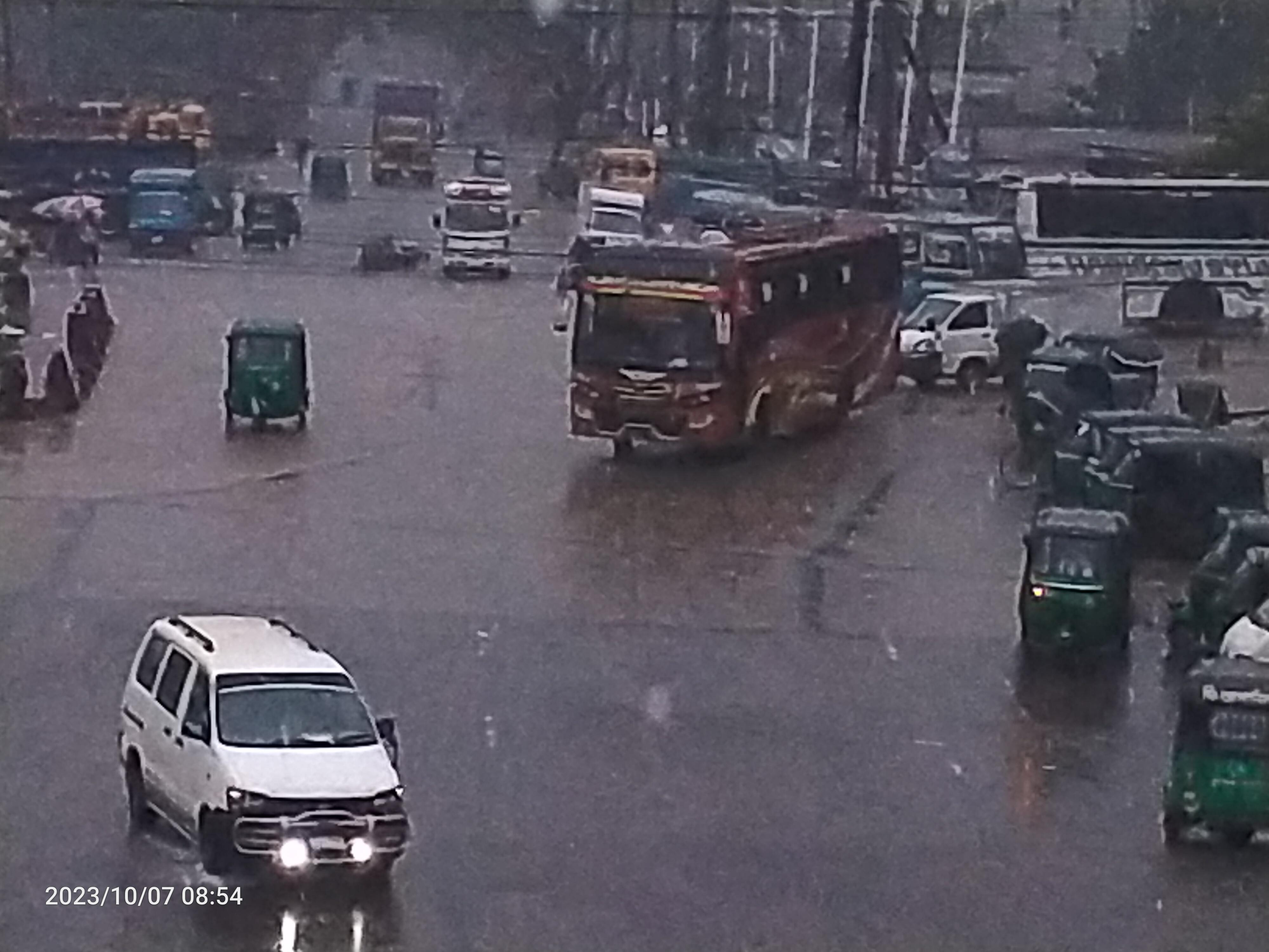Bus: (551, 210, 914, 488), (990, 133, 1269, 361)
Car: (60, 572, 450, 943), (898, 269, 1026, 418), (406, 163, 521, 299), (122, 169, 212, 258)
Truck: (347, 54, 456, 211)
